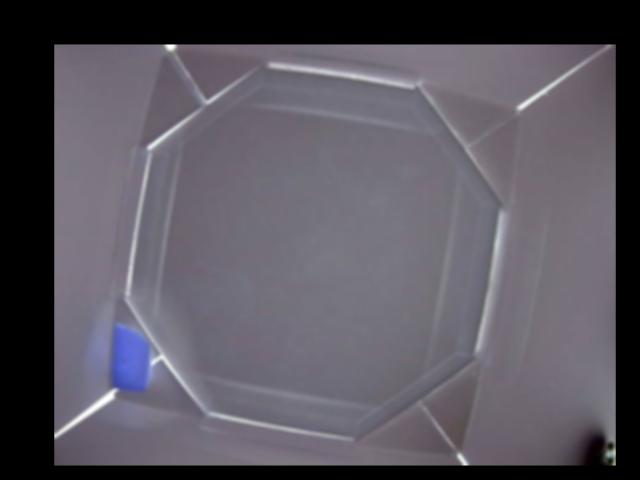Potato: (111, 321, 154, 392)
